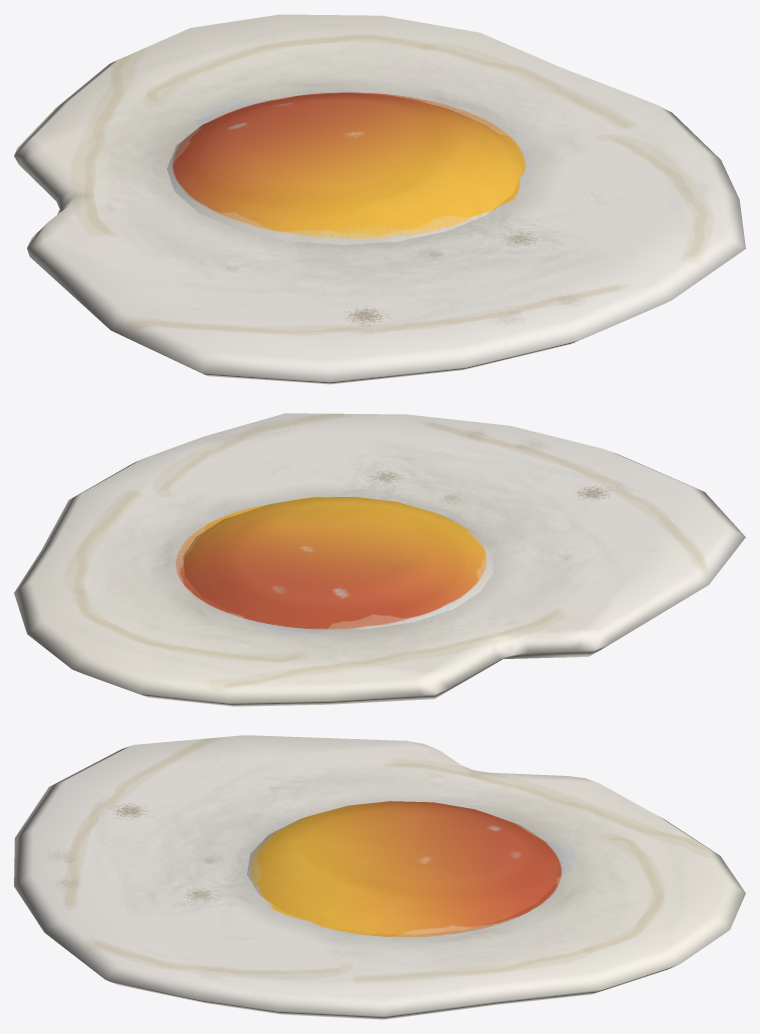
The model's file is OVO.fbx.
3 renders of one model, top to bottom at view 1: azimuth 30°, elevation 25°; view 2: azimuth 150°, elevation 25°; view 3: azimuth 270°, elevation 25°, orthographic. The views are drawn at different scales.
Visible parts, largest first — view 1: OVO_FRITO_LP; view 2: OVO_FRITO_LP; view 3: OVO_FRITO_LP.
Boxes of the visible parts, <box> form: OVO_FRITO_LP: <box>14,14,745,384</box>; OVO_FRITO_LP: <box>14,413,745,706</box>; OVO_FRITO_LP: <box>14,735,745,1019</box>.
Size of the model in its own units: 3.63 by 0.3125 by 4.05.
